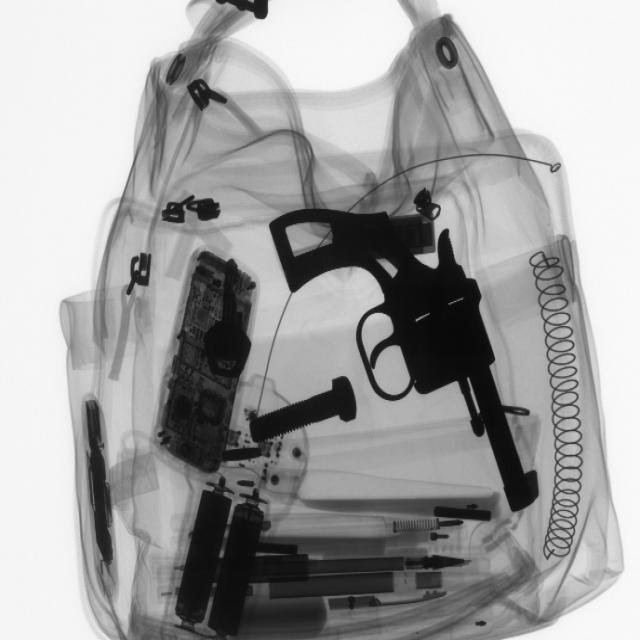GUN: (262, 205, 554, 497)
